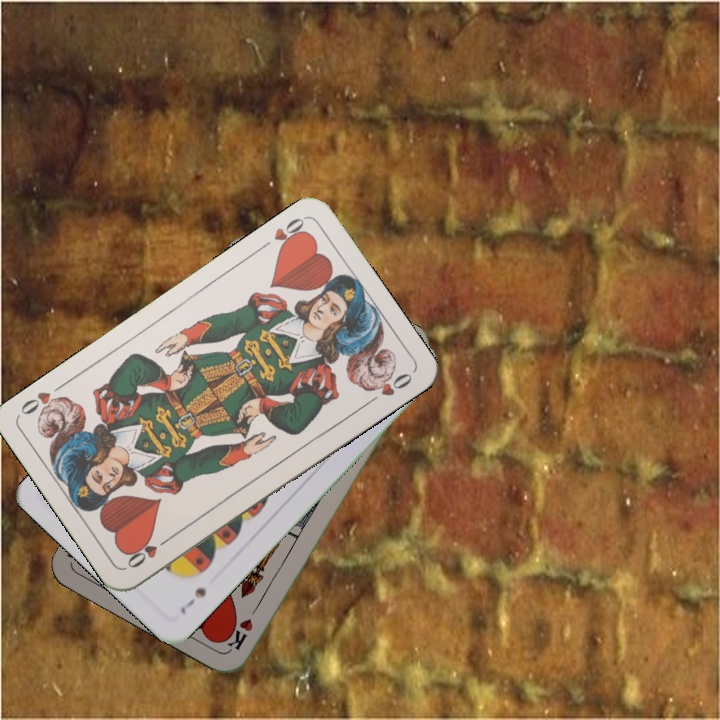HK: (225, 598, 264, 653)
HO: (255, 213, 310, 255), (123, 532, 175, 571)
S7: (176, 583, 209, 617)
